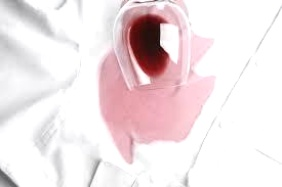wine: (109, 47, 213, 156), (92, 88, 197, 141), (193, 30, 213, 79)
